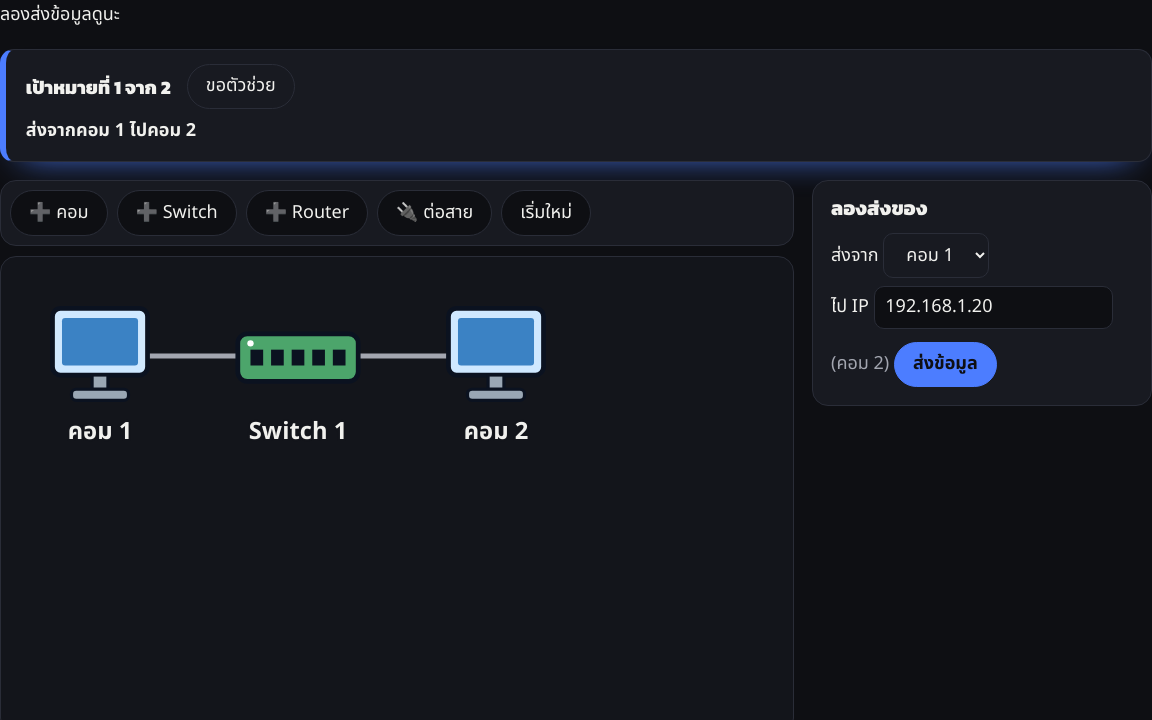
Test case: LabView › shows the goal task without asking for a hint, and updates it per goal
Expected: the text "ส่งจากคอม 1 ไปคอม 2" is shown, [26,117,196,144]
Click the button "ส่งข้อมูล" at (945, 364), box [894,342,997,387]
Wait 5000 ms
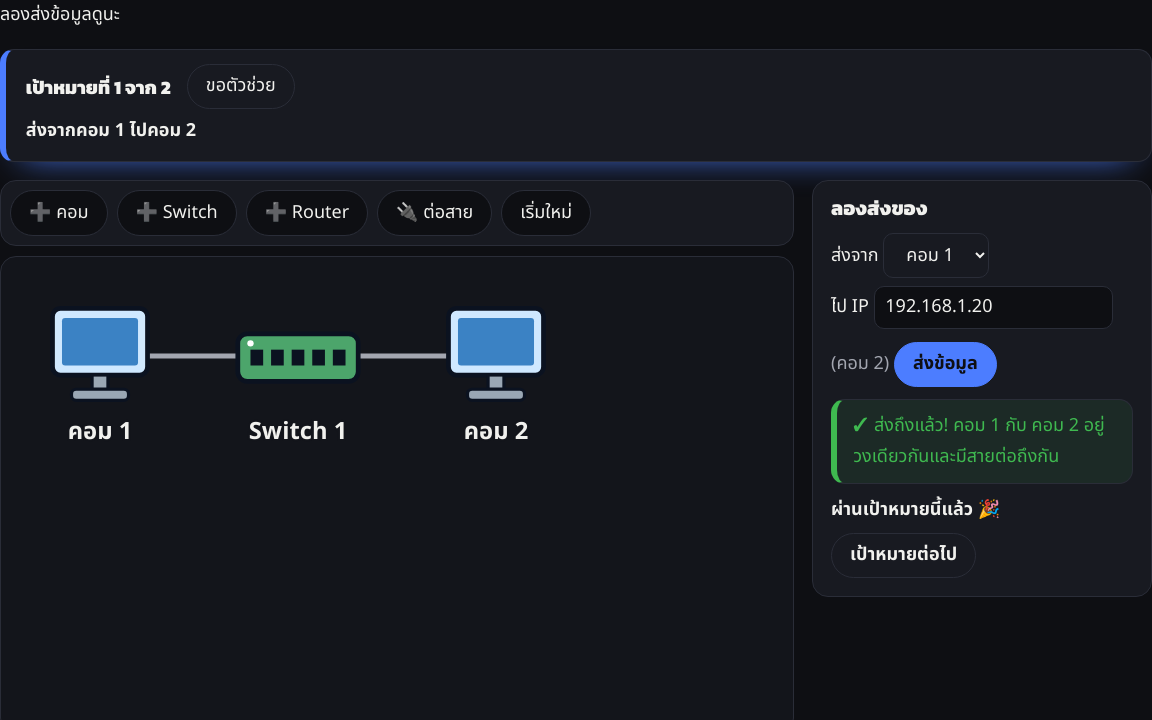
Click the button "เป้าหมายต่อไป" at (904, 555), box [831,533,976,578]
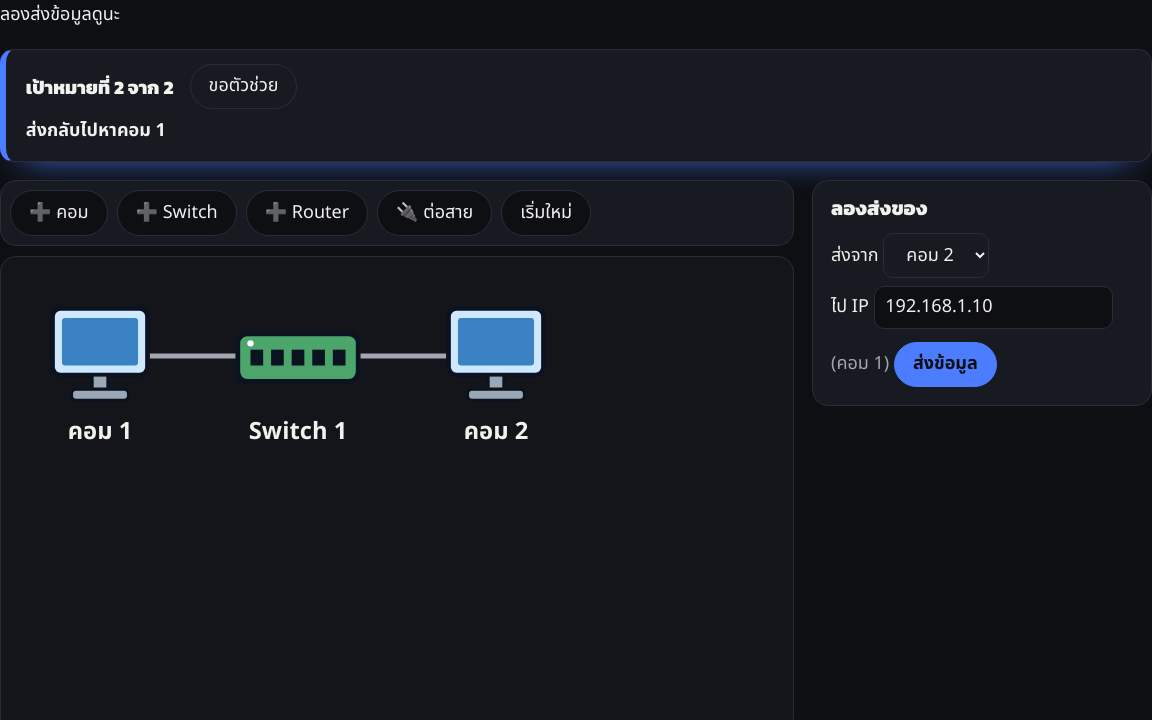
Now the text "ส่งกลับไปหาคอม 1" is shown, box [26,117,166,144]
Now the text "ส่งจากคอม 1 ไปคอม 2" is gone
